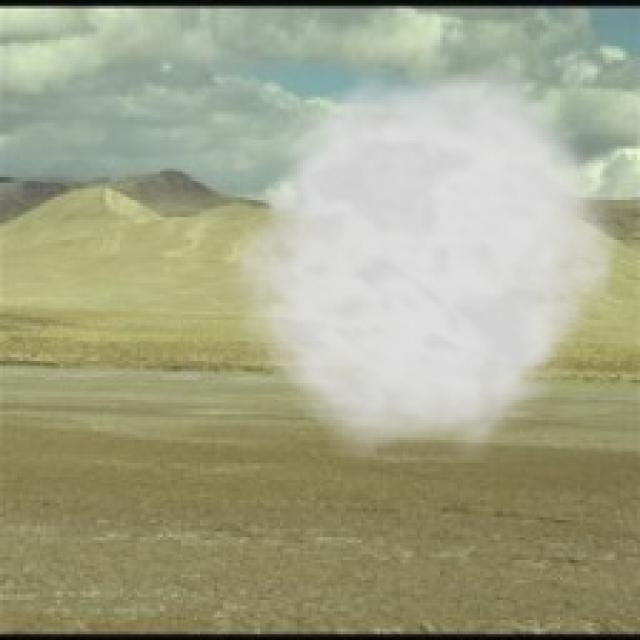smoke: (217, 48, 629, 463)
